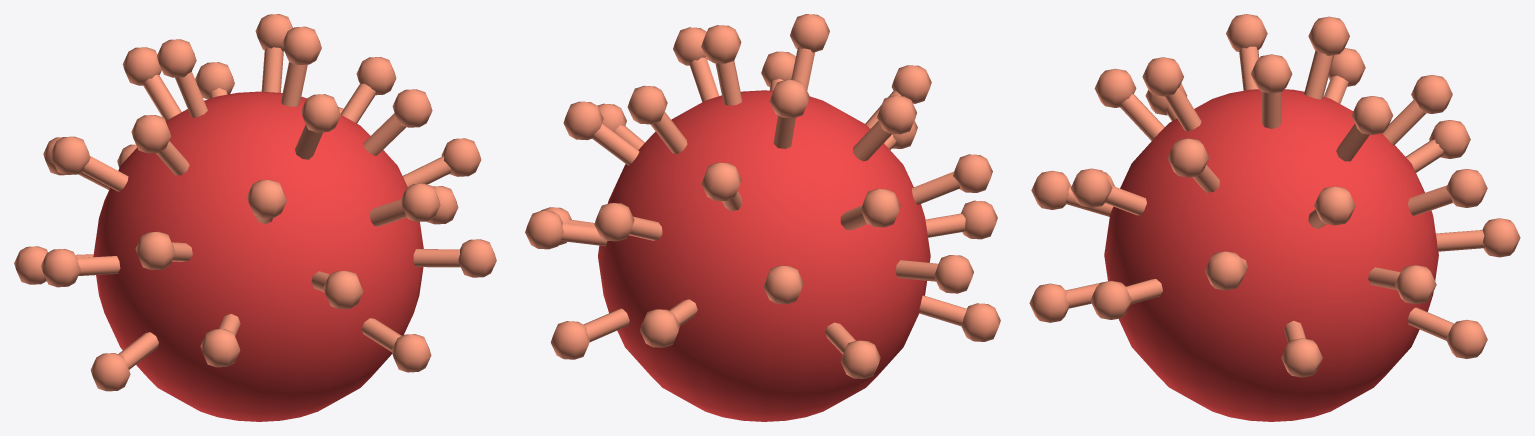
Rendered from virus.glb.
3 renders of one model, left to right at view 1: azimuth 30°, elevation 25°; view 2: azimuth 150°, elevation 25°; view 3: azimuth 270°, elevation 25°, orthographic.
Parts seen in each view (by area): view 1: IW_L2_x_virus; view 2: IW_L2_x_virus; view 3: IW_L2_x_virus.
Boxes of the visible parts, <box> form: IW_L2_x_virus: <box>14,14,496,421</box>; IW_L2_x_virus: <box>525,14,1000,421</box>; IW_L2_x_virus: <box>1029,14,1520,421</box>.
Bounding box in the file's own units: 1.77 × 1.48 × 1.76.
